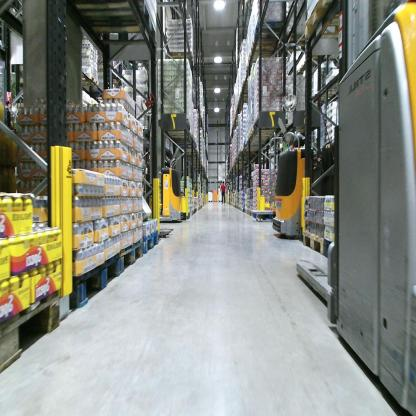pallet: (2, 282, 65, 371), (68, 1, 162, 49), (66, 253, 125, 314), (302, 0, 358, 34), (119, 238, 146, 282), (300, 225, 322, 257), (245, 46, 283, 64), (254, 19, 286, 39), (251, 35, 283, 51), (142, 228, 160, 255), (322, 236, 337, 263), (164, 52, 196, 64), (78, 77, 102, 92), (165, 118, 190, 132), (255, 117, 279, 131), (247, 130, 274, 140), (250, 127, 278, 135), (253, 213, 273, 220), (186, 212, 191, 220), (193, 207, 197, 213), (217, 179, 223, 183), (247, 210, 251, 216), (250, 211, 253, 218), (208, 199, 213, 203), (191, 210, 194, 216), (212, 199, 218, 202), (218, 199, 224, 202), (243, 207, 246, 213), (245, 209, 247, 214)
pallet_truck: (299, 1, 414, 414), (269, 108, 326, 244), (149, 124, 183, 225)
